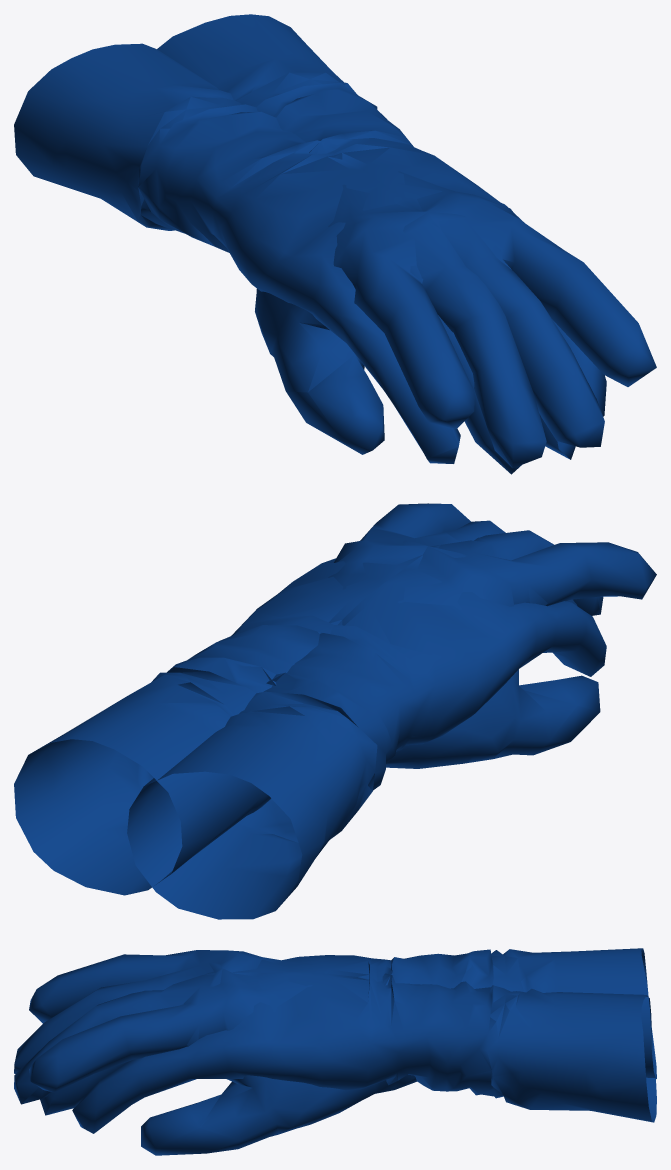
Rendered from Sarung_tangan.fbx.
3 views of the same model, one above another, from view 1: azimuth 30°, elevation 25°; view 2: azimuth 150°, elevation 25°; view 3: azimuth 270°, elevation 25° (orthographic). The views are drawn at different scales.
Visible parts, largest first — view 1: Sarung_tangan:Layer2, Sarung_tangan:model; view 2: Sarung_tangan:Layer2, Sarung_tangan:model; view 3: Sarung_tangan:model, Sarung_tangan:Layer2.
Boxes of the visible parts, x1,y1,x2,y2 form: Sarung_tangan:Layer2: (14,43,656,474); Sarung_tangan:model: (157,14,606,468); Sarung_tangan:Layer2: (127,503,606,919); Sarung_tangan:model: (14,530,656,895); Sarung_tangan:model: (14,950,656,1133); Sarung_tangan:Layer2: (14,948,656,1155).
Size of the model in its own units: 11.35 by 7.01 by 27.95.
